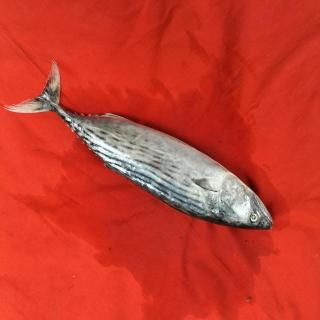Ikan: (7, 61, 277, 242)
